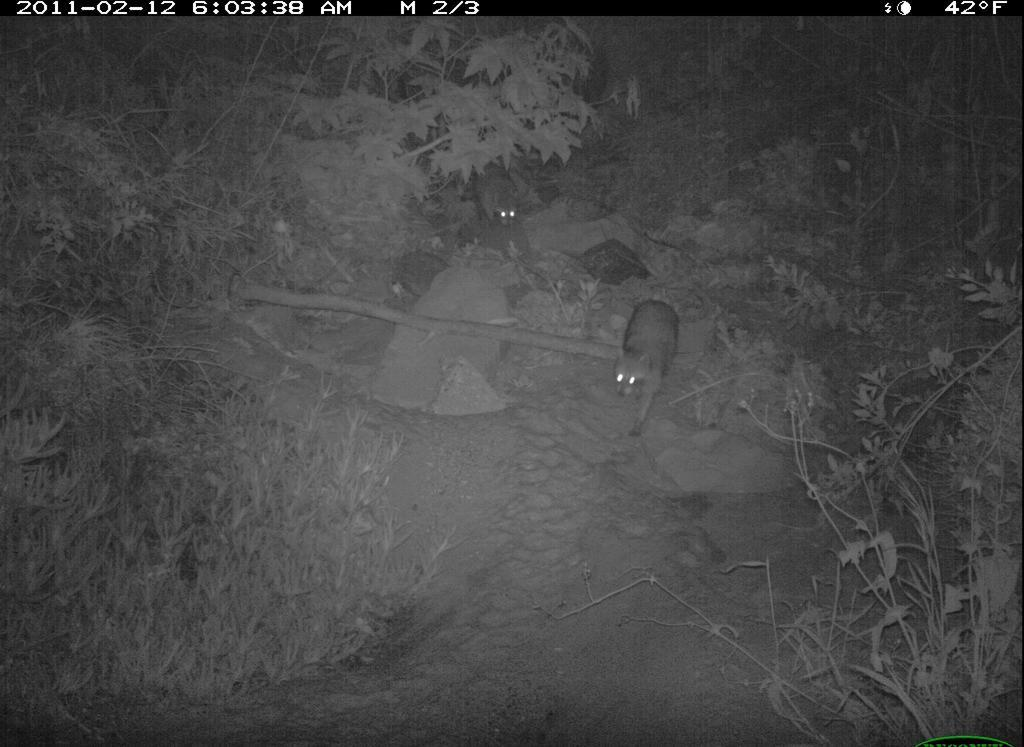raccoon: (589, 280, 706, 455), (469, 152, 528, 236)
